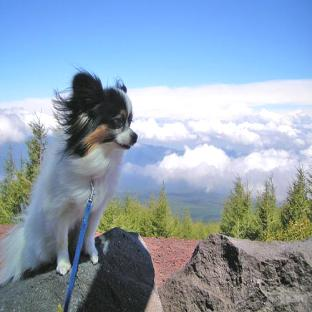Animal: (1, 72, 138, 282)
